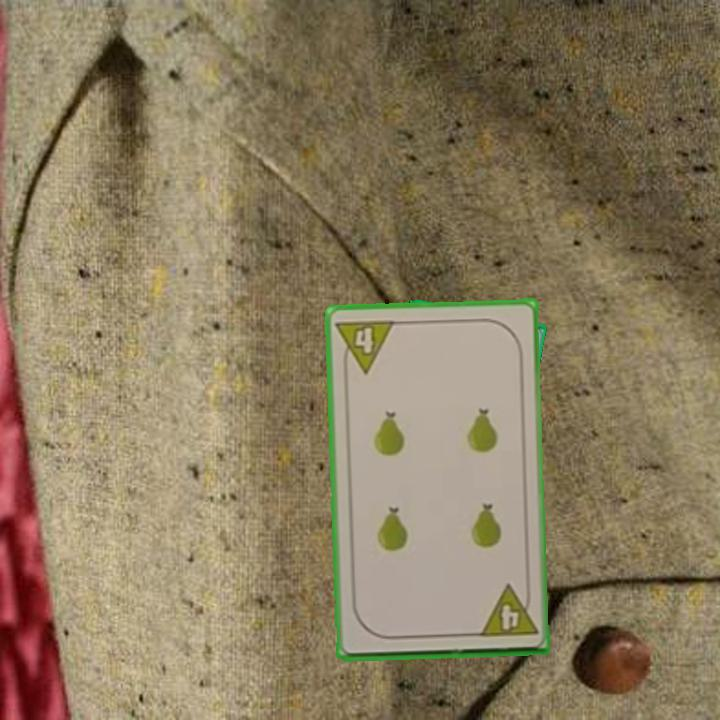4p: (333, 316, 398, 377), (475, 581, 540, 640)
